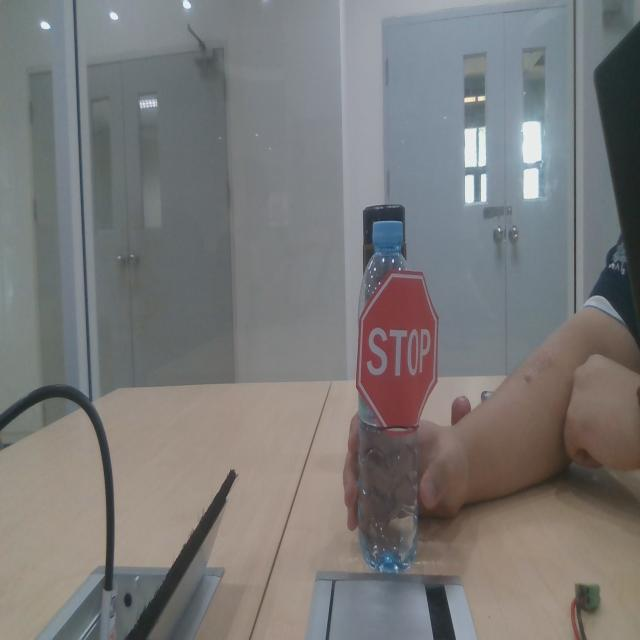Stop: (345, 252, 447, 427)
